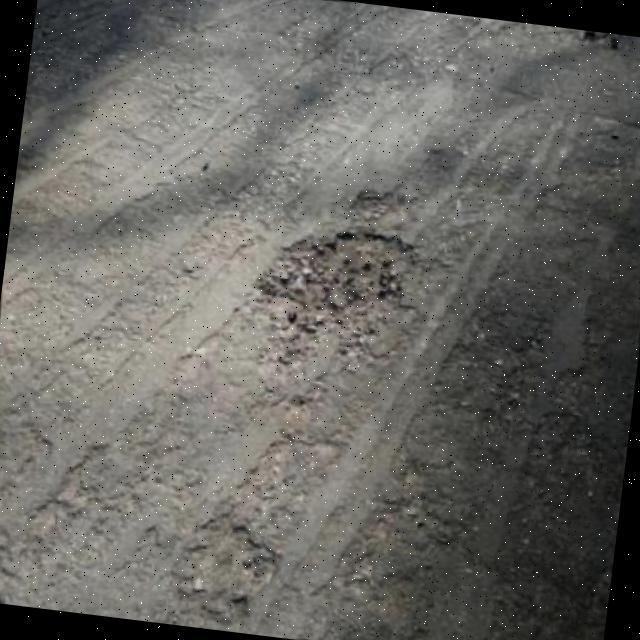Pothole: (260, 232, 417, 365)
